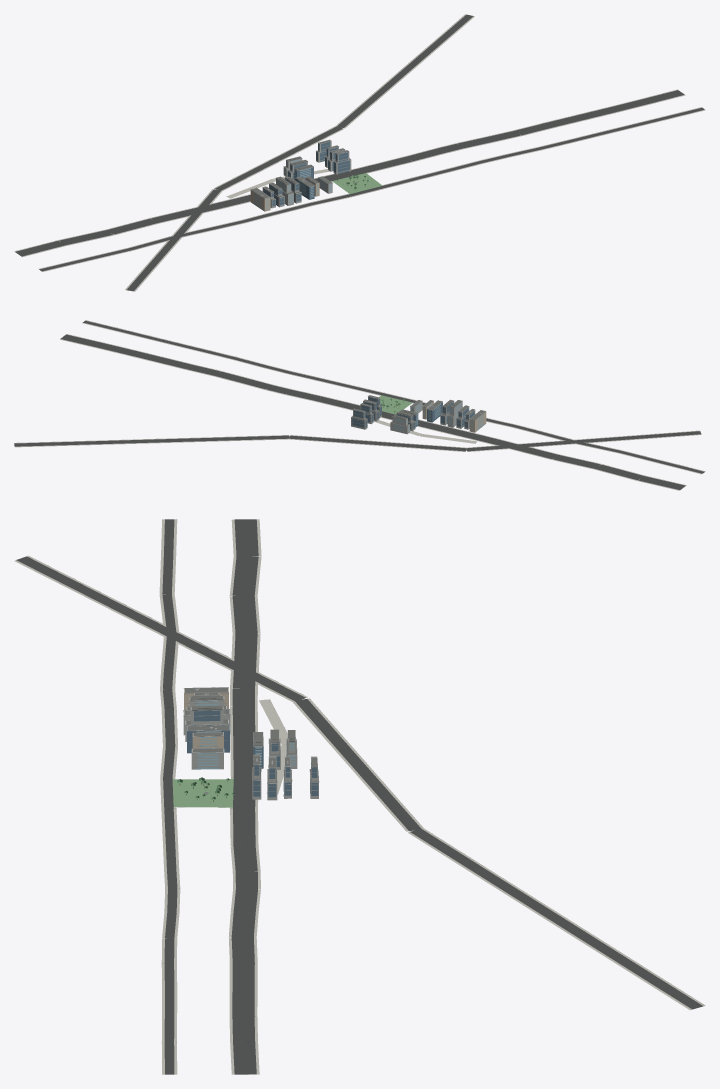
Rendered from tile-m001-m001.glb.
The picture shows the model from 3 angles, top to bottom: view 1: azimuth 30°, elevation 25°; view 2: azimuth 150°, elevation 25°; view 3: azimuth 270°, elevation 25°; orthographic projection. The views are drawn at different scales.
Parts seen in each view (by area): view 1: road-h-8-mesh-3, road-diagonal-market-mesh-5, road-h-7-mesh-1, road-h-7-mesh-0, road-h-8-mesh-2, road-diagonal-market-mesh-4, park-central-mesh-8; view 2: road-h-8-mesh-3, road-diagonal-market-mesh-5, road-diagonal-market-mesh-4, road-h-7-mesh-1, road-h-8-mesh-2, road-h-7-mesh-0, park-central-mesh-8; view 3: road-h-8-mesh-3, road-diagonal-market-mesh-5, road-h-7-mesh-1, road-diagonal-market-mesh-4, road-h-7-mesh-0, road-h-8-mesh-2, park-central-mesh-8.
Boxes of the visible parts, x1=… form: road-h-8-mesh-3: x1=15, y1=90, x2=684, y2=256; road-diagonal-market-mesh-5: x1=126, y1=14, x2=473, y2=291; road-h-7-mesh-1: x1=39, y1=107, x2=704, y2=271; road-h-7-mesh-0: x1=39, y1=107, x2=705, y2=271; road-h-8-mesh-2: x1=14, y1=89, x2=685, y2=257; road-diagonal-market-mesh-4: x1=125, y1=14, x2=474, y2=291; park-central-mesh-8: x1=332, y1=173, x2=382, y2=193; road-h-8-mesh-3: x1=60, y1=334, x2=685, y2=489; road-diagonal-market-mesh-5: x1=14, y1=431, x2=701, y2=451; road-diagonal-market-mesh-4: x1=14, y1=430, x2=701, y2=451; road-h-7-mesh-1: x1=83, y1=320, x2=704, y2=473; road-h-8-mesh-2: x1=60, y1=334, x2=686, y2=490; road-h-7-mesh-0: x1=82, y1=320, x2=705, y2=474; park-central-mesh-8: x1=379, y1=395, x2=412, y2=414; road-h-8-mesh-3: x1=231, y1=519, x2=258, y2=1074; road-diagonal-market-mesh-5: x1=16, y1=556, x2=702, y2=1009; road-h-7-mesh-1: x1=162, y1=519, x2=177, y2=1074; road-diagonal-market-mesh-4: x1=14, y1=555, x2=705, y2=1010; road-h-7-mesh-0: x1=159, y1=519, x2=180, y2=1074; road-h-8-mesh-2: x1=229, y1=519, x2=261, y2=1074; park-central-mesh-8: x1=172, y1=779, x2=233, y2=807.
Bounding box in the file's own units: 1600 × 46.63 × 843.
